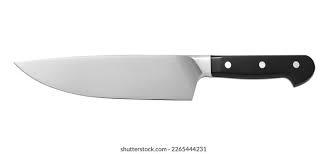Knife: (13, 53, 315, 100)
